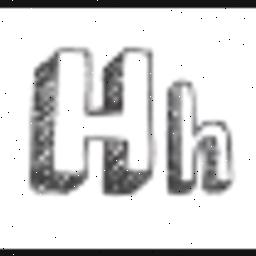h: (36, 30, 156, 194), (161, 74, 237, 194)
